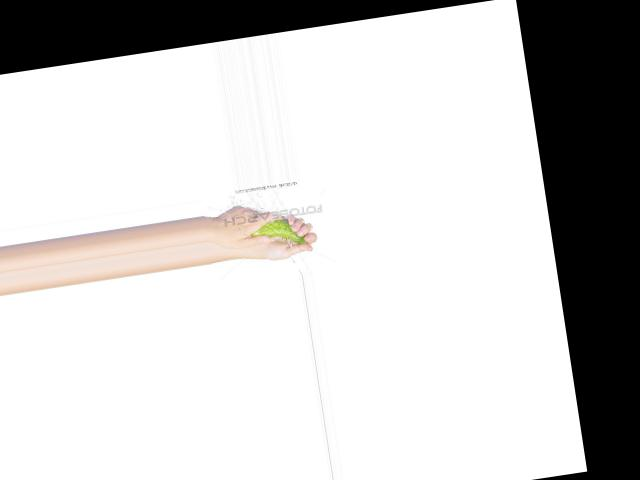cucumber: (247, 214, 307, 251)
